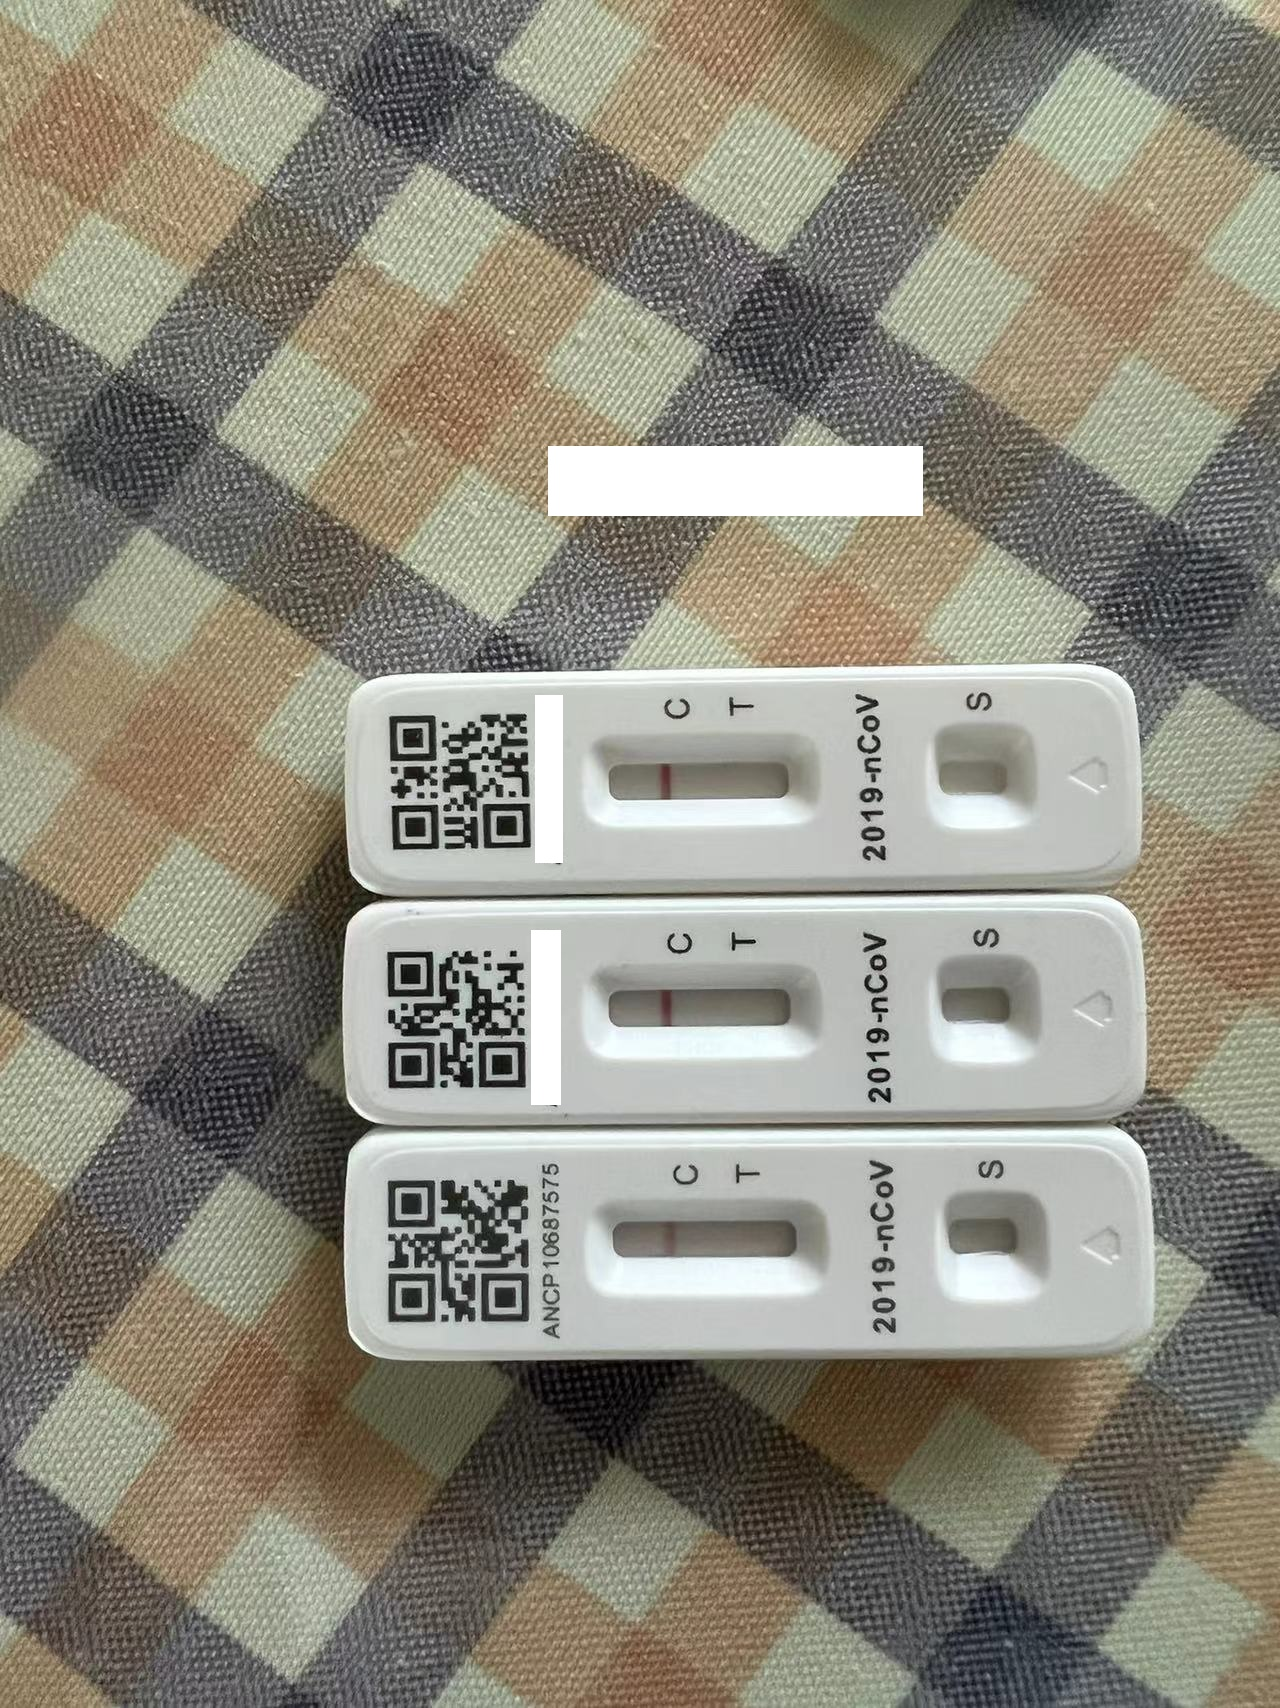negative: (581, 1200, 826, 1295), (584, 966, 826, 1060), (593, 736, 828, 824)
